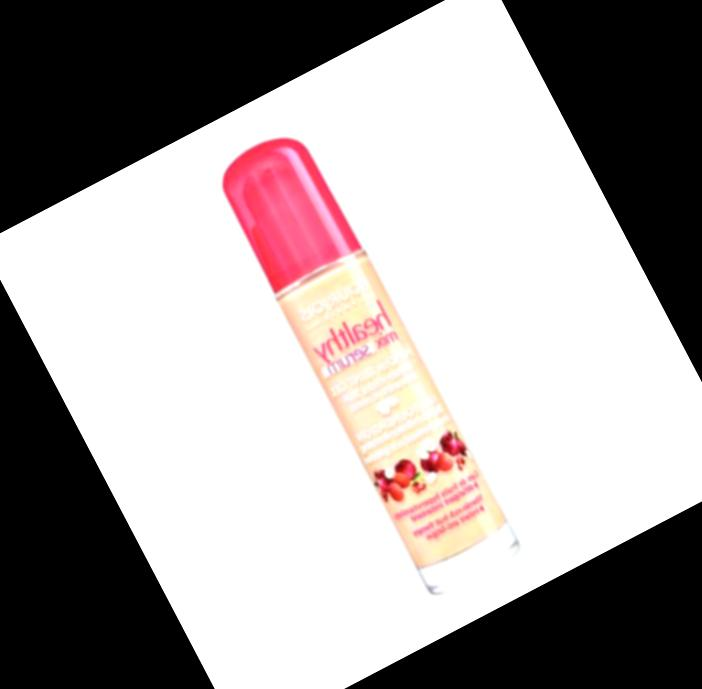cosmetic: (207, 120, 525, 597)
